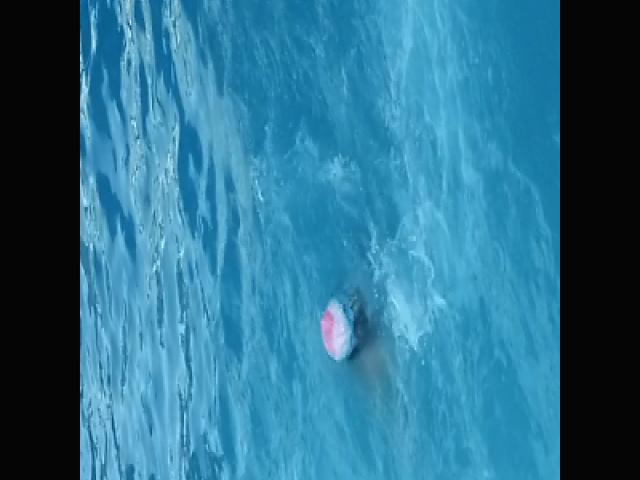drowning: (314, 272, 398, 378)
